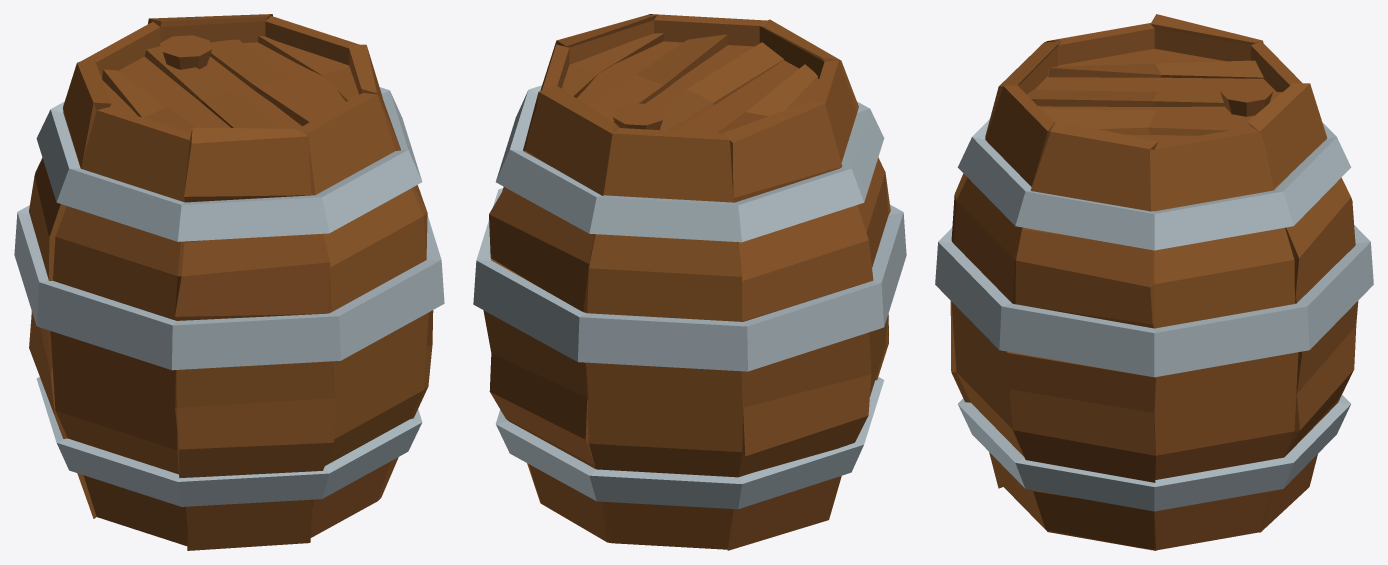
File: barell.fbx
3 renders of one model, left to right at view 1: azimuth 30°, elevation 25°; view 2: azimuth 150°, elevation 25°; view 3: azimuth 270°, elevation 25°, orthographic. The views are drawn at different scales.
Parts seen in each view (by area): view 1: Cylinder; view 2: Cylinder; view 3: Cylinder.
Boxes of the visible parts, x1,y1,x2,y2 form: Cylinder: (14, 14, 444, 550); Cylinder: (473, 14, 906, 550); Cylinder: (935, 14, 1373, 550).
Bounding box in the file's own units: 101 × 105 × 101.
